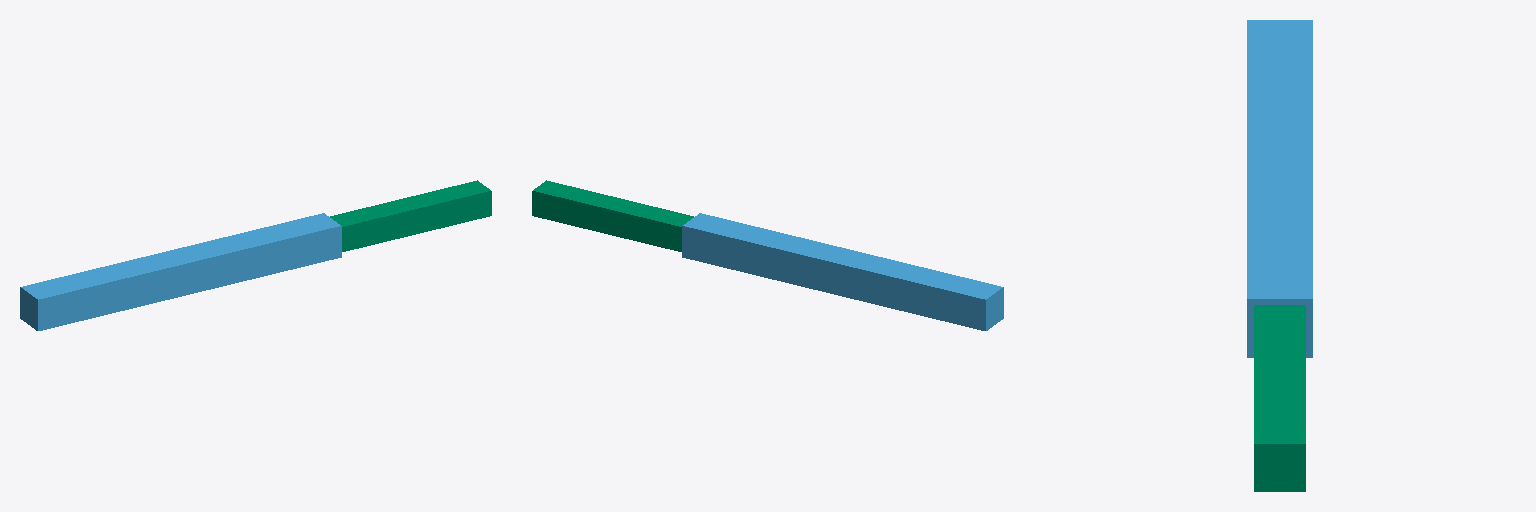
URDF robot description (planar_2r):
<?xml version="1.0"?>
<robot name="planar_2r">
    <link name="base_link"/>

    <link name="link_1">
        <visual>
            <origin xyz="0.5 0 0" rpy="0 0 0"/>
            <geometry><box size="1.0 0.1 0.1"/></geometry>
        </visual>
        <inertial>
            <origin xyz="0.5 0 0" rpy="0 0 0"/>
            <mass value="1.0"/>
            <inertia ixx="0.083" ixy="0" ixz="0" iyy="0.008" iyz="0" izz="0.008"/>
        </inertial>
    </link>

    <link name="link_2">
        <visual>
            <origin xyz="0.25 0 0" rpy="0 0 0"/>
            <geometry><box size="0.5 0.08 0.08"/></geometry>
        </visual>
        <inertial>
            <origin xyz="0.25 0 0" rpy="0 0 0"/>
            <mass value="0.5"/>
            <inertia ixx="0.010" ixy="0" ixz="0" iyy="0.002" iyz="0" izz="0.002"/>
        </inertial>
    </link>

    <joint name="joint_1" type="revolute">
        <parent link="base_link"/>
        <child link="link_1"/>
        <origin xyz="0 0 0" rpy="0 0 0"/>
        <axis xyz="0 0 1"/>
        <limit lower="-3.14159" upper="3.14159" effort="10" velocity="1"/>
    </joint>

    <joint name="joint_2" type="revolute">
        <parent link="link_1"/>
        <child link="link_2"/>
        <origin xyz="1.0 0 0" rpy="0 0 0"/>
        <axis xyz="0 0 1"/>
        <limit lower="-3.14159" upper="3.14159" effort="10" velocity="1"/>
    </joint>
</robot>

--- Render facts (derived) ---
3 views of the same robot in one strip: view 1: azimuth 30°, elevation 25°; view 2: azimuth 150°, elevation 25°; view 3: azimuth 270°, elevation 25° (orthographic).
Model planar_2r with 3 links and 2 joints (2 revolute), rooted at base_link, posed every joint at zero.
Visible links, largest first — view 1: link_1, link_2; view 2: link_1, link_2; view 3: link_1, link_2.
Boxes of the visible links, box(x1,y1,x2,y2) form: link_1: box(20, 213, 341, 330); link_2: box(330, 180, 491, 251); link_1: box(682, 213, 1003, 330); link_2: box(532, 180, 693, 251); link_1: box(1247, 20, 1312, 357); link_2: box(1254, 305, 1305, 491).
Size in the robot's own frame: 1.5 by 0.1 by 0.1 metres.
Geometry: primitives only (box / cylinder / sphere), no mesh files.
